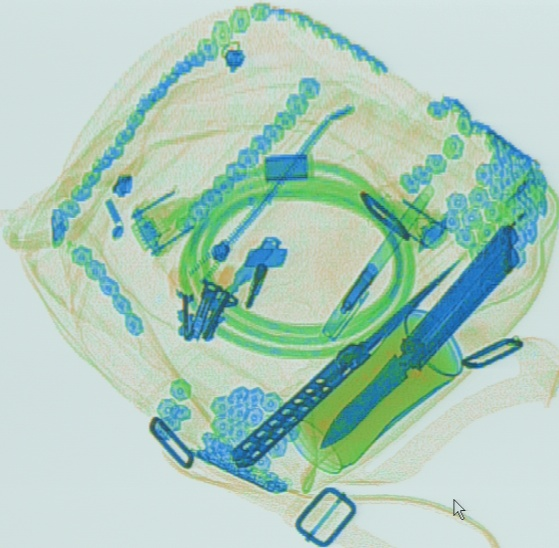knife: (228, 251, 471, 465), (320, 221, 521, 455)
